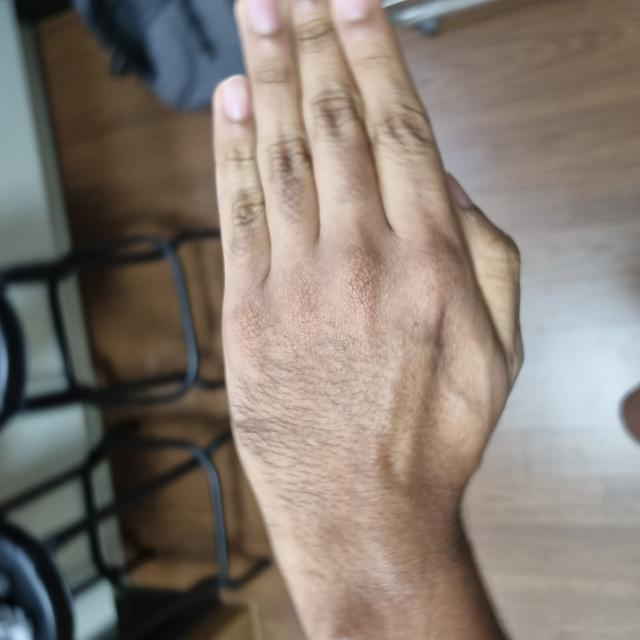Paper: (90, 216, 637, 514)
